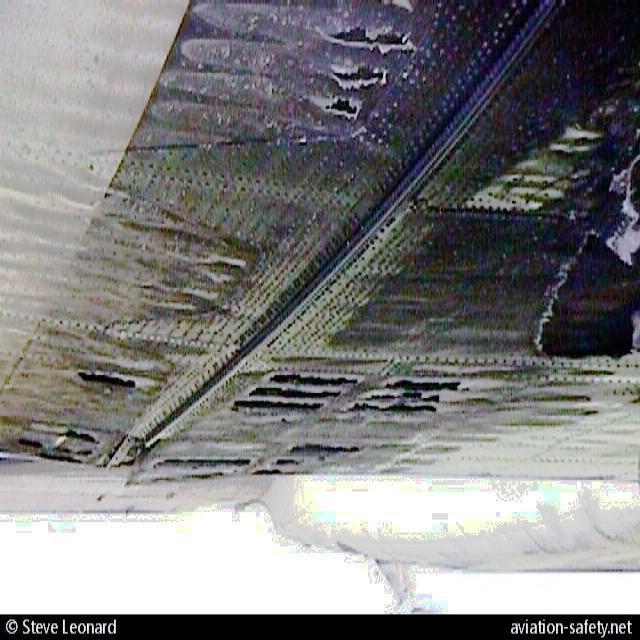crack: (313, 17, 427, 127)
